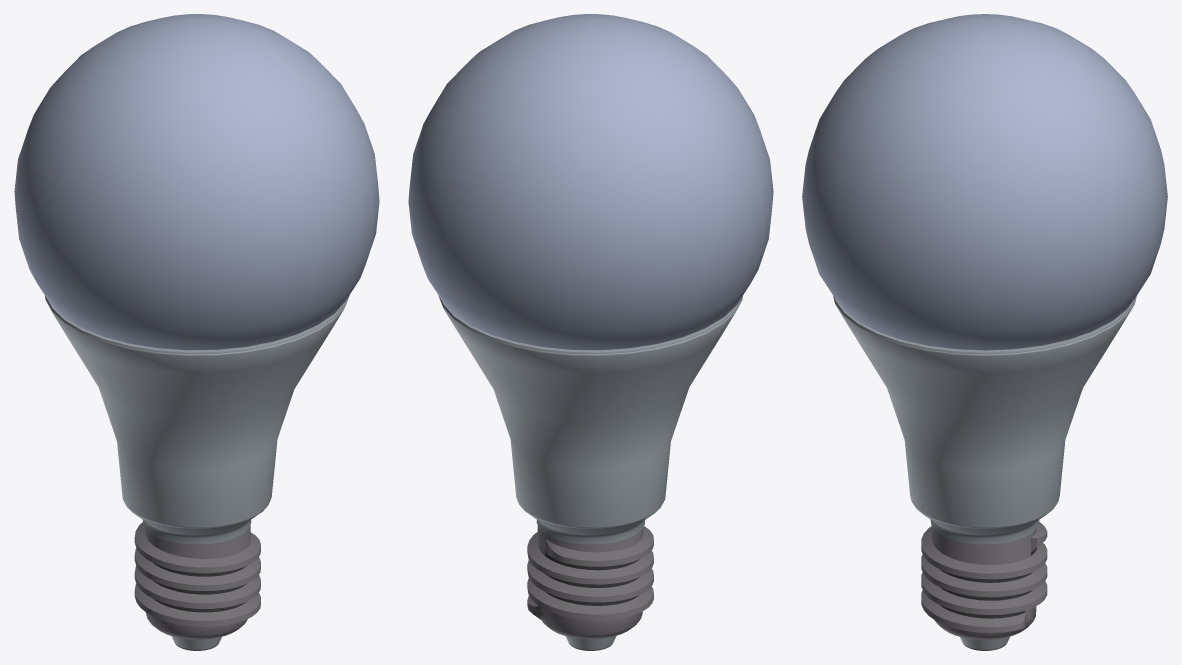
The model's file is led_lamp.glb.
3 renders of one model, left to right at view 1: azimuth 30°, elevation 25°; view 2: azimuth 150°, elevation 25°; view 3: azimuth 270°, elevation 25°, orthographic.
Visible parts, largest first — view 1: Sphere_2, Cylinder.001_1, Cylinder_0; view 2: Sphere_2, Cylinder.001_1, Cylinder_0, Cylinder.002_3; view 3: Sphere_2, Cylinder.001_1, Cylinder_0.
Boxes of the visible parts, x1,y1,x2,y2 form: Sphere_2: [14, 14, 379, 350]; Cylinder.001_1: [45, 295, 349, 544]; Cylinder_0: [134, 522, 260, 639]; Sphere_2: [408, 14, 773, 350]; Cylinder.001_1: [438, 295, 742, 544]; Cylinder_0: [527, 526, 653, 639]; Cylinder.002_3: [565, 636, 616, 650]; Sphere_2: [802, 14, 1167, 350]; Cylinder.001_1: [833, 296, 1136, 544]; Cylinder_0: [921, 522, 1047, 639].
Size of the model in its own units: 4.83 by 8.88 by 4.83.
